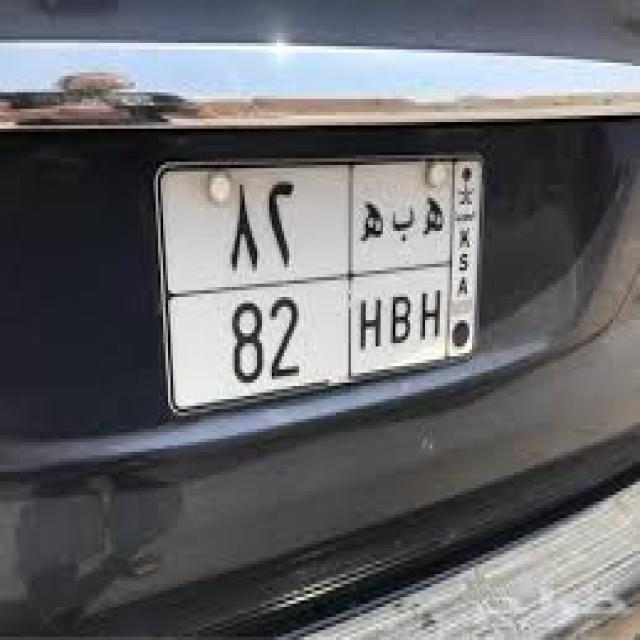license_plate: (151, 148, 487, 422)
